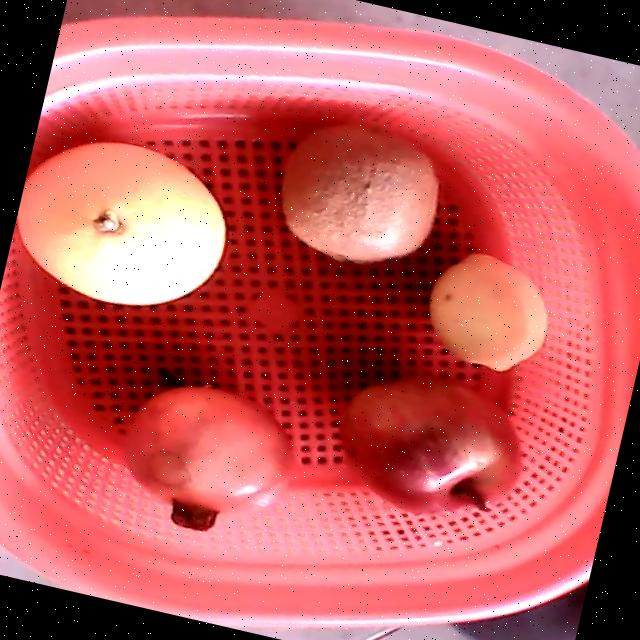apple: (339, 372, 522, 515)
kiwi: (281, 123, 437, 263)
lemon: (428, 254, 545, 373)
orange: (16, 142, 225, 305)
pomegranate: (120, 386, 294, 532)
